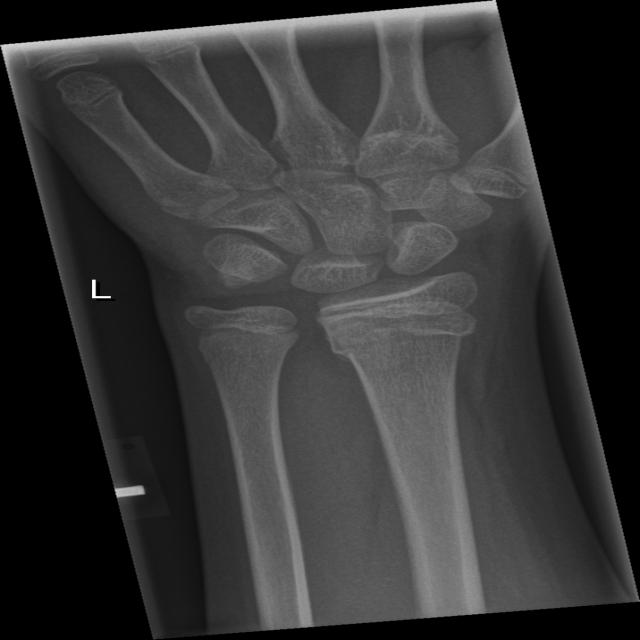radius fracture: (315, 311, 493, 396)
